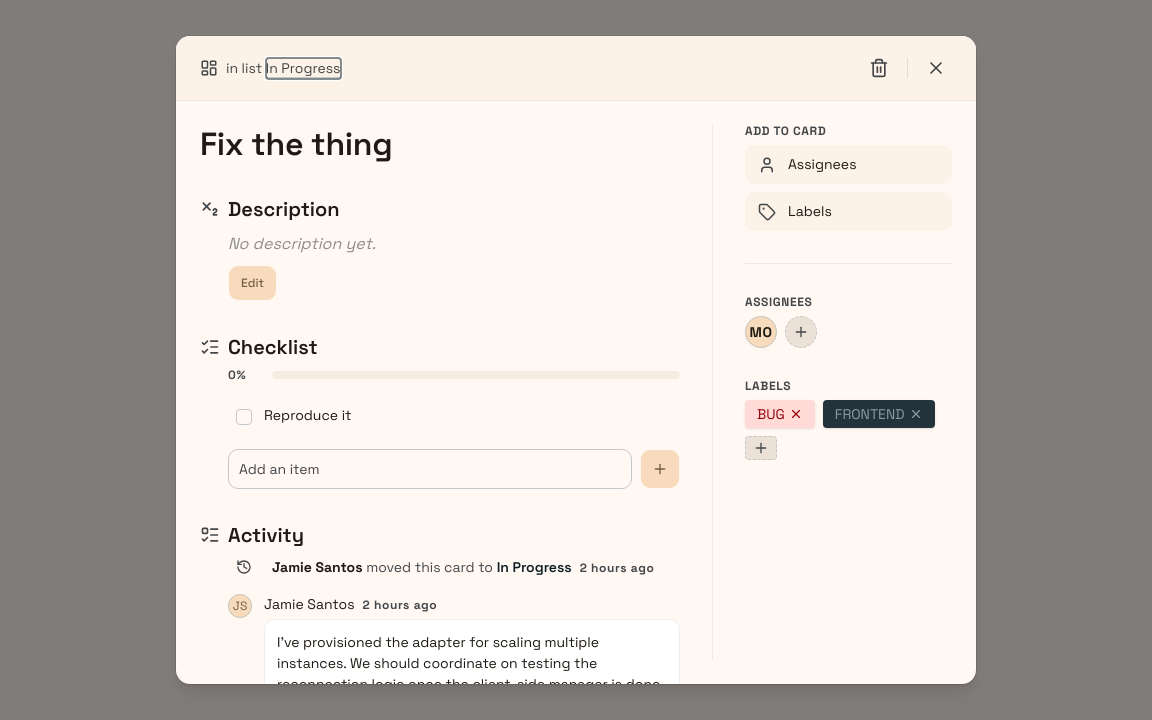
it: CardDetailModal › removes a label when its remove control is clicked
This screenshot has width=1152, height=720.
Click the button "BUG": (780,414) [745,400,815,428]
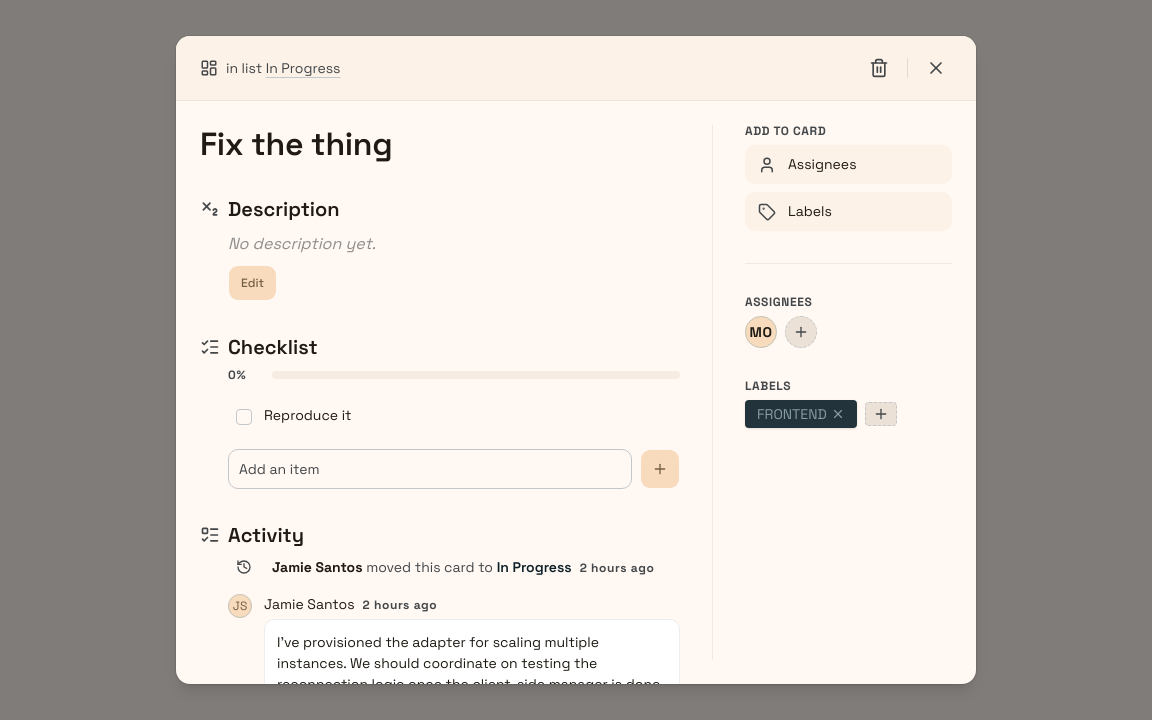
Check: the button "FRONTEND" is shown, box [745,400,857,428]
Check: the button "BUG" is gone
